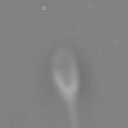normal: (57, 96, 89, 128)
